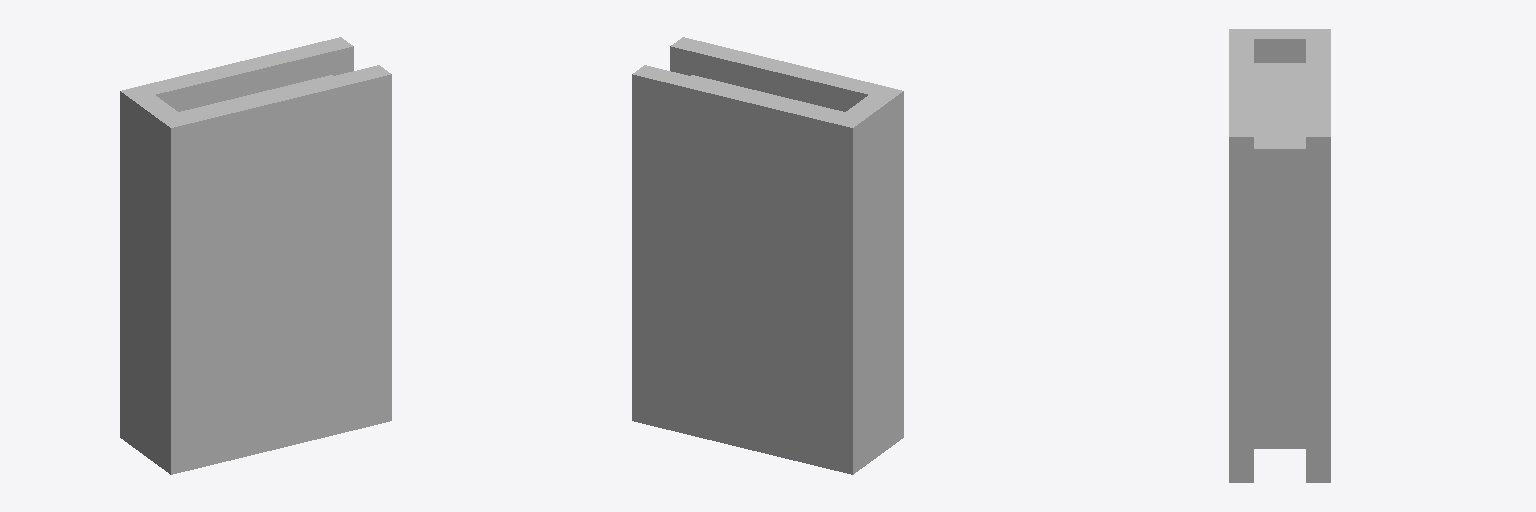
Rendered from Book4.obj.
3 views of the same model, side by side, from view 1: azimuth 30°, elevation 25°; view 2: azimuth 150°, elevation 25°; view 3: azimuth 270°, elevation 25° (orthographic).
Visible parts, largest first — view 1: object 1; view 2: object 1; view 3: object 1.
Part boxes in pixels (bbox=[...]): object 1: bbox=[120, 37, 391, 474]; object 1: bbox=[632, 37, 903, 474]; object 1: bbox=[1229, 29, 1330, 482].
Bounding box in the file's own units: 1 × 1.5 × 0.4.